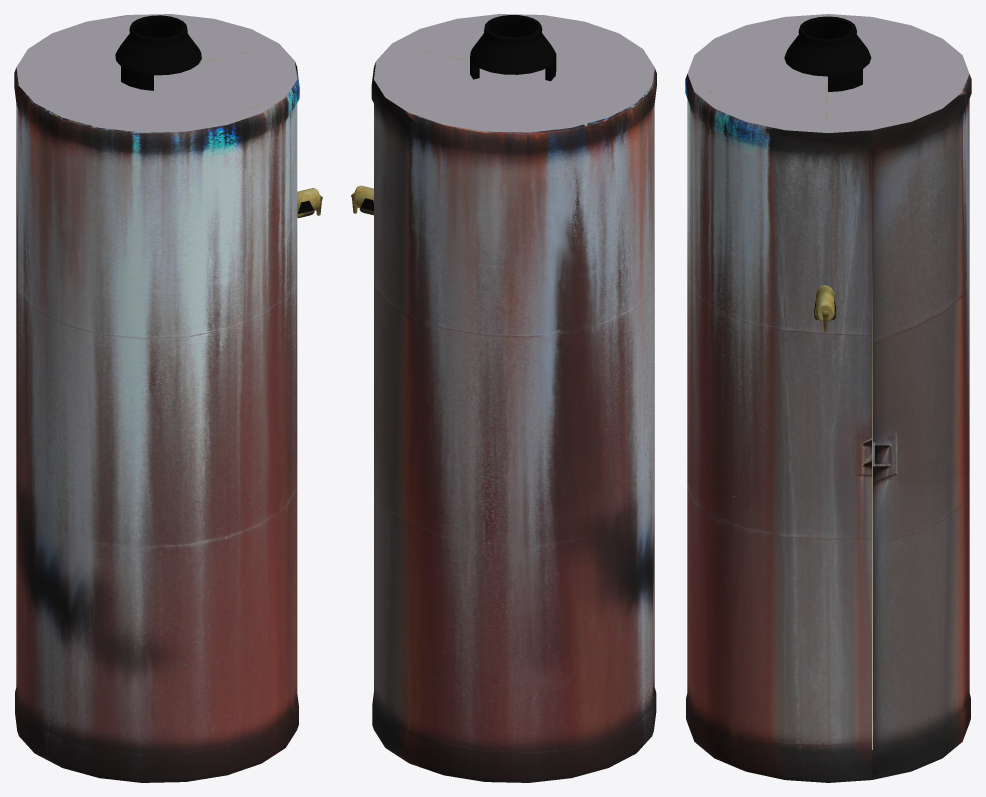
File: waterHeater.fbx
3 views of the same model, side by side, from view 1: azimuth 30°, elevation 25°; view 2: azimuth 150°, elevation 25°; view 3: azimuth 270°, elevation 25° (orthographic).
Visible parts, largest first — view 1: polySurface4; view 2: polySurface4; view 3: polySurface4.
Boxes of the visible parts, bbox=[...] form: polySurface4: bbox=[14, 14, 322, 782]; polySurface4: bbox=[351, 14, 656, 782]; polySurface4: bbox=[685, 14, 971, 782].
Bounding box in the file's own units: 7.86 × 18.19 × 6.79.
